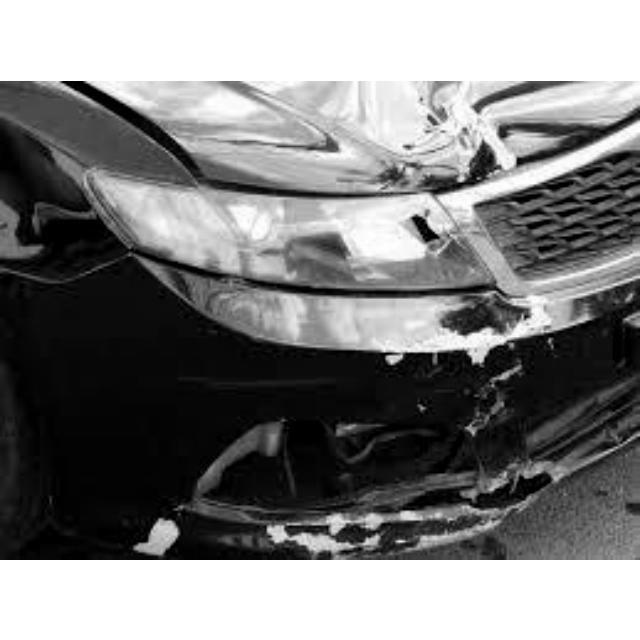front-bumper-dent: (1, 258, 638, 556)
